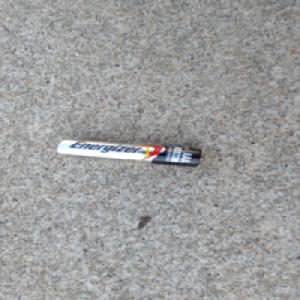Battery: (53, 137, 205, 169)
